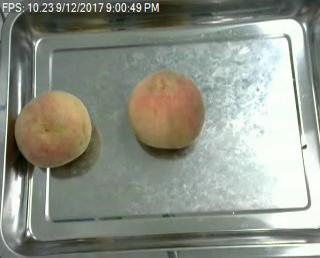Peach: (14, 88, 93, 168), (128, 69, 204, 149)
